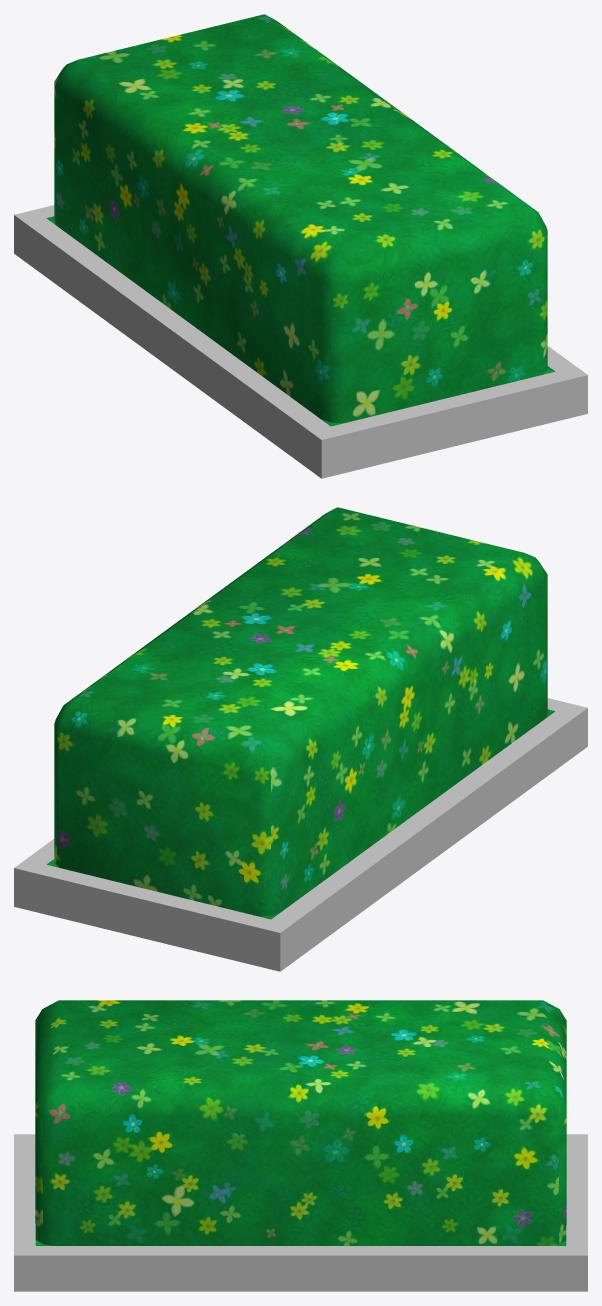
Rendered from Plant02_c05.FBX.
3 renders of one model, top to bottom at view 1: azimuth 30°, elevation 25°; view 2: azimuth 150°, elevation 25°; view 3: azimuth 270°, elevation 25°, orthographic. The views are drawn at different scales.
Visible parts, largest first — view 1: Plant02_c05; view 2: Plant02_c05; view 3: Plant02_c05.
Part boxes in pixels (x1,y1,x2,y2): Plant02_c05: (14, 14, 587, 478); Plant02_c05: (14, 507, 587, 971); Plant02_c05: (14, 1000, 587, 1291).
Bounding box in the file's own units: 339 × 245 × 678.
